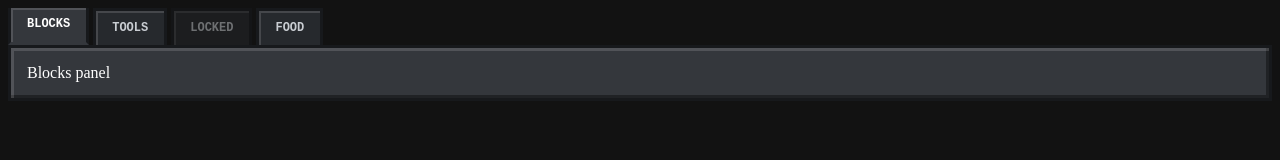
BlockTabs › activates on click
Click the tab "Tools": x=130, y=28 [93,8,167,48]
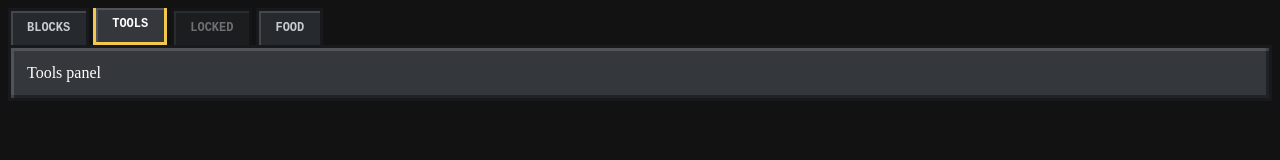
expect the panel reads "Tools panel": met, box [27,64,101,81]
